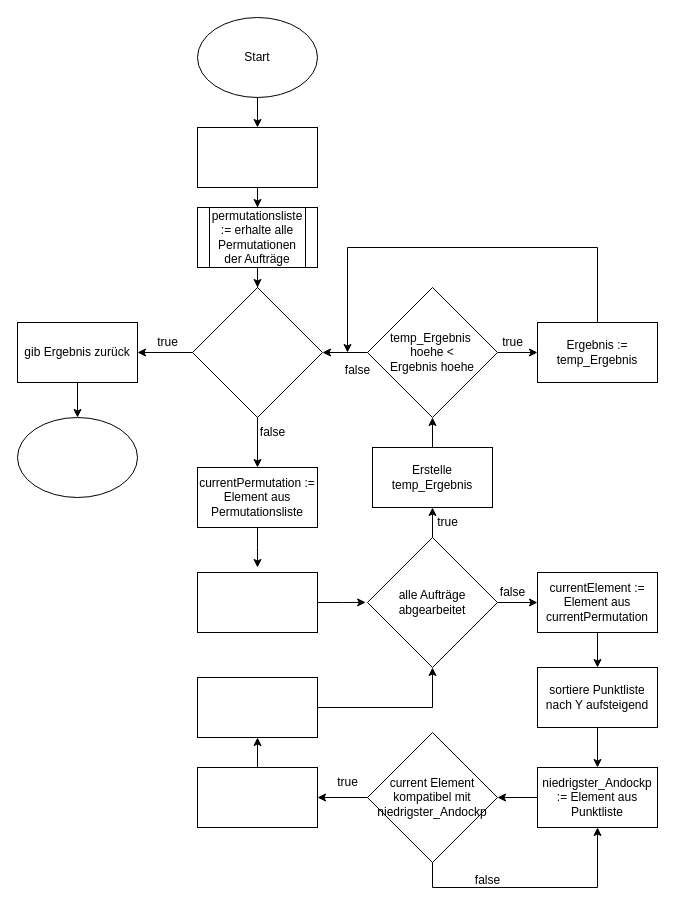
Some shapes in this 675 by 913 pixel diagram are drawn without their labels. Here are the shapes that lost their labels. From the top down, the centre of each, then its label:
the point at 257,157: Initialisiere Ergebnis
the point at 257,352: alle Permutationen abgearbeitet
the point at 77,457: Ende
the point at 257,602: initialisiere Punktliste mit Andockpunkt (0,0)
the point at 257,707: niedrigster_Andockp wird zu Ankerpunkt
the point at 257,797: füge neue Andockpunkte zu Punkteliste
